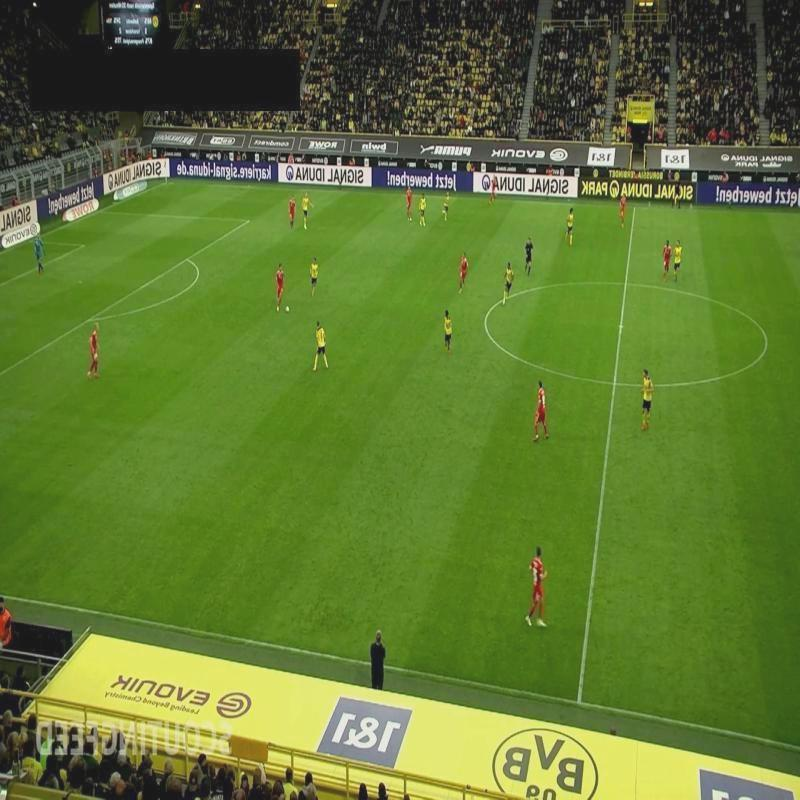1: (159, 178, 173, 192)
10: (180, 253, 194, 266)
11: (78, 311, 97, 330)
13: (628, 200, 642, 213)
14: (618, 276, 634, 292)
15: (607, 376, 622, 392)
16: (566, 691, 594, 715)
2: (93, 206, 107, 219)
7: (76, 238, 90, 251)
9: (242, 214, 256, 228)
c: (754, 335, 777, 354), (478, 308, 494, 326)
